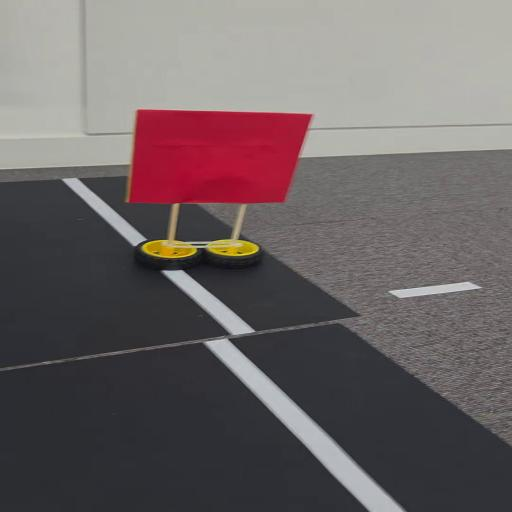Sign_A: (118, 105, 316, 269)
